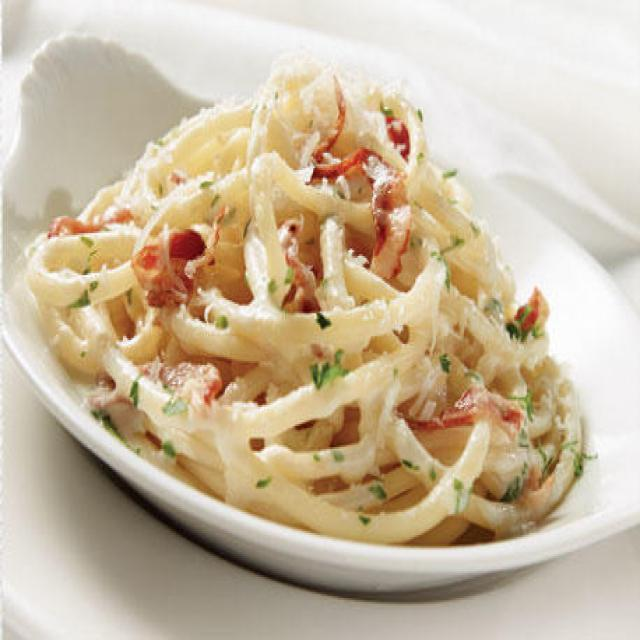Pasta with carbonara sauce: (29, 29, 607, 573)
